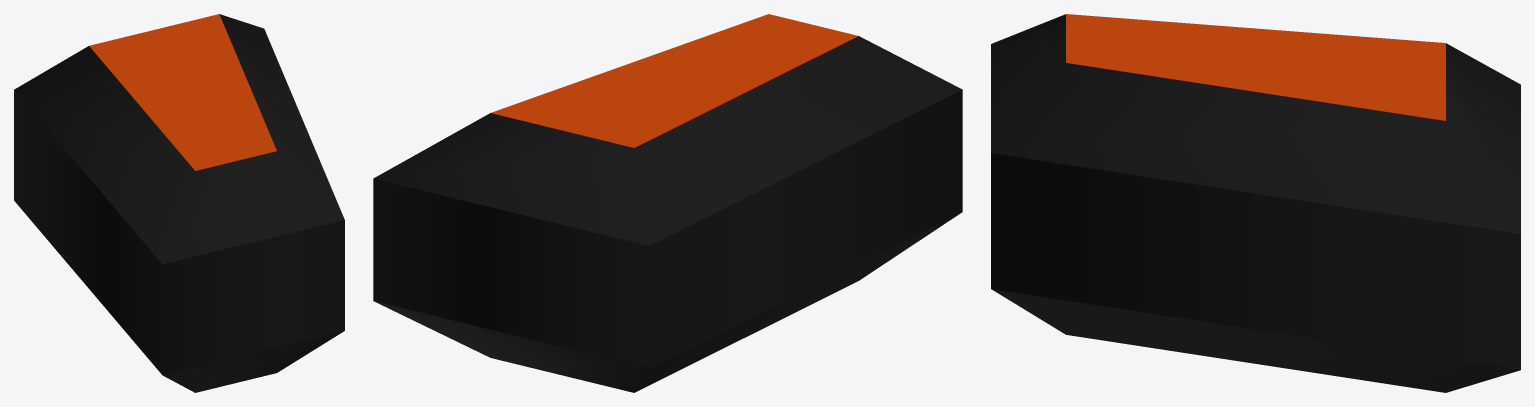
Rendered from Virgule.fbx.
3 views of the same model, side by side, from view 1: azimuth 30°, elevation 25°; view 2: azimuth 150°, elevation 25°; view 3: azimuth 270°, elevation 25° (orthographic). The views are drawn at different scales.
Parts seen in each view (by area): view 1: Text; view 2: Text; view 3: Text.
Part boxes in pixels (left/top/right/bottom): Text: left=14, top=14, right=344, bottom=392; Text: left=373, top=14, right=962, bottom=392; Text: left=991, top=14, right=1520, bottom=392.
Bounding box in the file's own units: 0.2399 × 0.16 × 0.2825.
